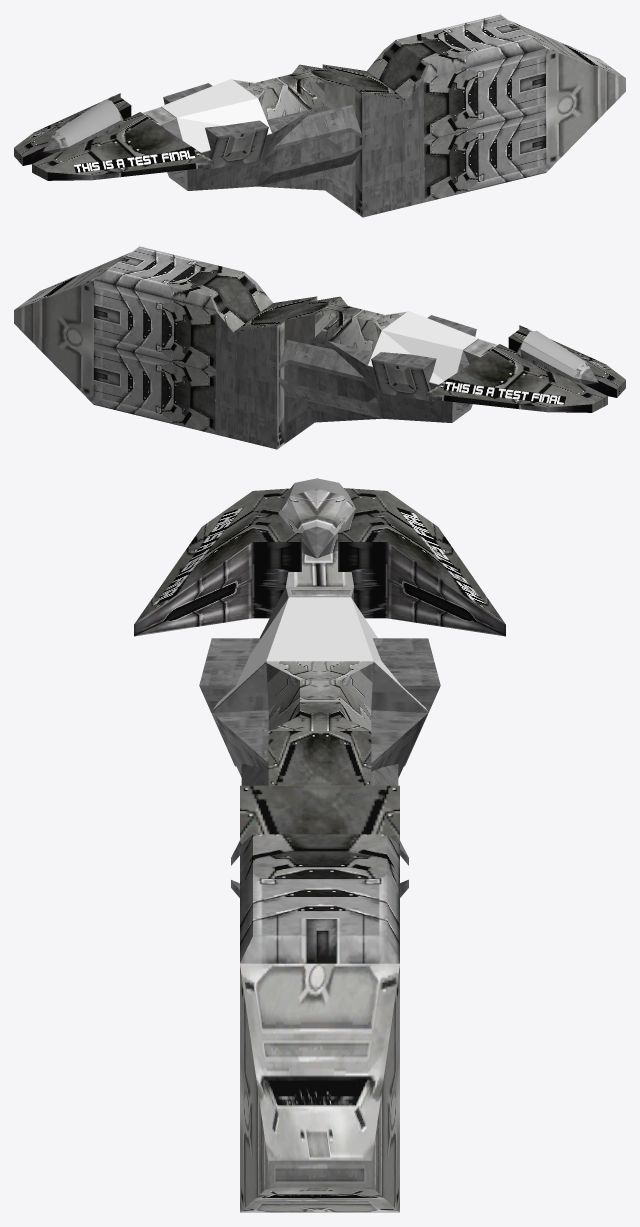
Rendered from sph33.obj.
3 views of the same model, one above another, from view 1: azimuth 30°, elevation 25°; view 2: azimuth 150°, elevation 25°; view 3: azimuth 270°, elevation 25° (orthographic). The views are drawn at different scales.
Parts seen in each view (by area): view 1: SPH330, DECAL030.005, COCKPIT0.002, NAMEDECAL0.005; view 2: SPH330, DECAL030.005, COCKPIT0.002, NAMEDECAL0.005; view 3: SPH330, DECAL030.005, COCKPIT0.002, NAMEDECAL0.005.
Boxes of the visible parts, x1,y1,x2,y2 form: SPH330: (14, 14, 625, 217); DECAL030.005: (161, 79, 271, 152); COCKPIT0.002: (43, 100, 123, 153); NAMEDECAL0.005: (29, 95, 196, 172); SPH330: (14, 246, 625, 449); DECAL030.005: (368, 311, 478, 384); COCKPIT0.002: (517, 330, 598, 384); NAMEDECAL0.005: (443, 326, 610, 404); SPH330: (134, 488, 505, 1212); DECAL030.005: (212, 597, 427, 710); COCKPIT0.002: (278, 478, 355, 558); NAMEDECAL0.005: (152, 507, 487, 606).
Bounding box in the file's own units: 87.69 × 22.81 × 24.14.
4 materials, 4 textured.
